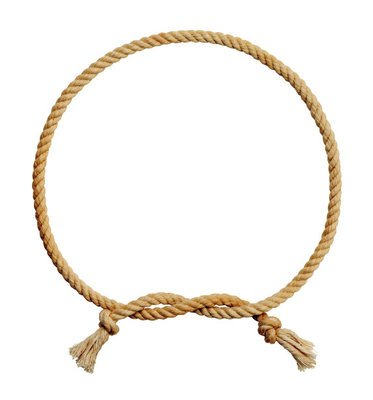9/可回收垃圾/绳子: (32, 29, 342, 374)
